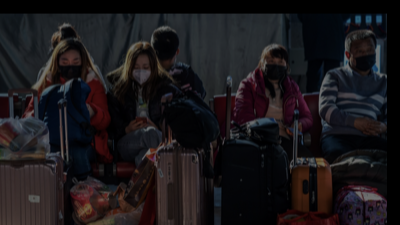with_mask: (350, 41, 376, 70), (263, 55, 287, 80), (58, 55, 83, 77), (132, 61, 151, 83)
